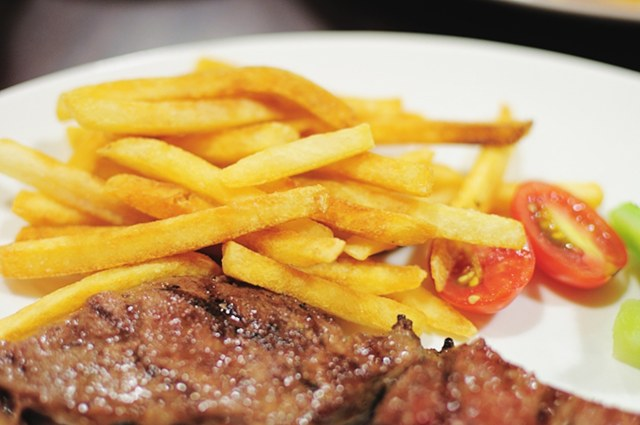tomato: (510, 181, 628, 287), (426, 237, 534, 312)
